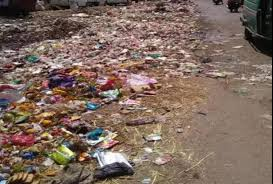garbage: (13, 54, 142, 178), (82, 23, 192, 75)
